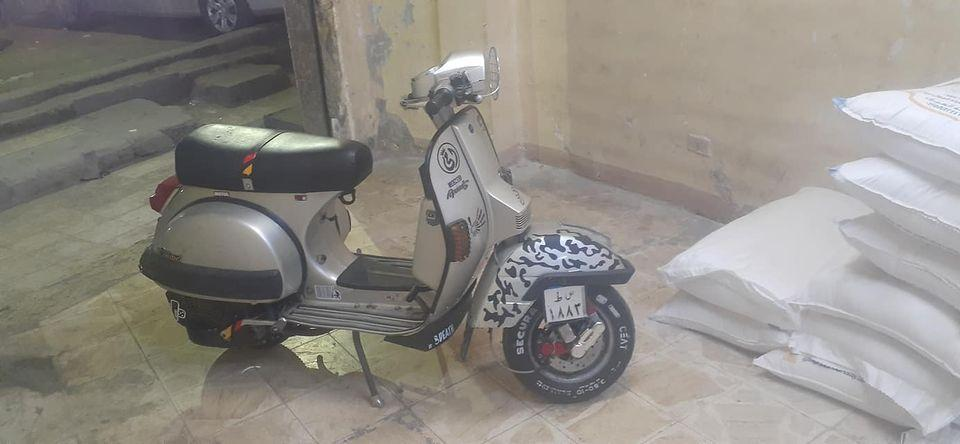License Plate: (543, 280, 591, 326)
